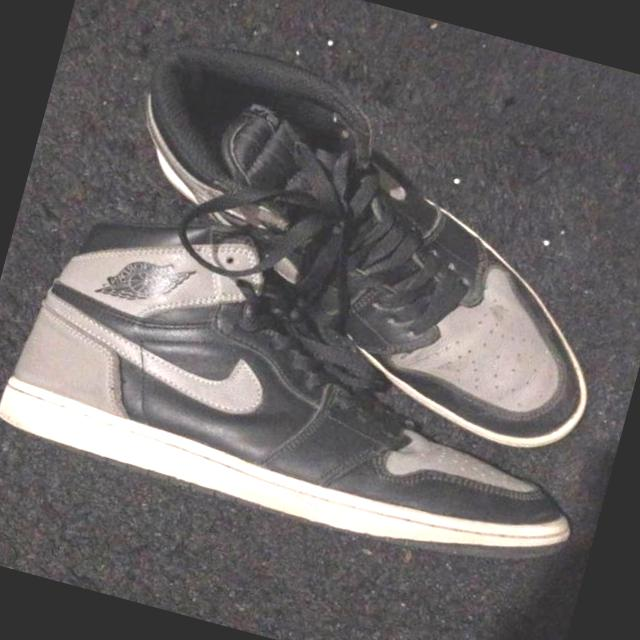nike_fake_jordan: (0, 176, 629, 590), (74, 27, 640, 467)
